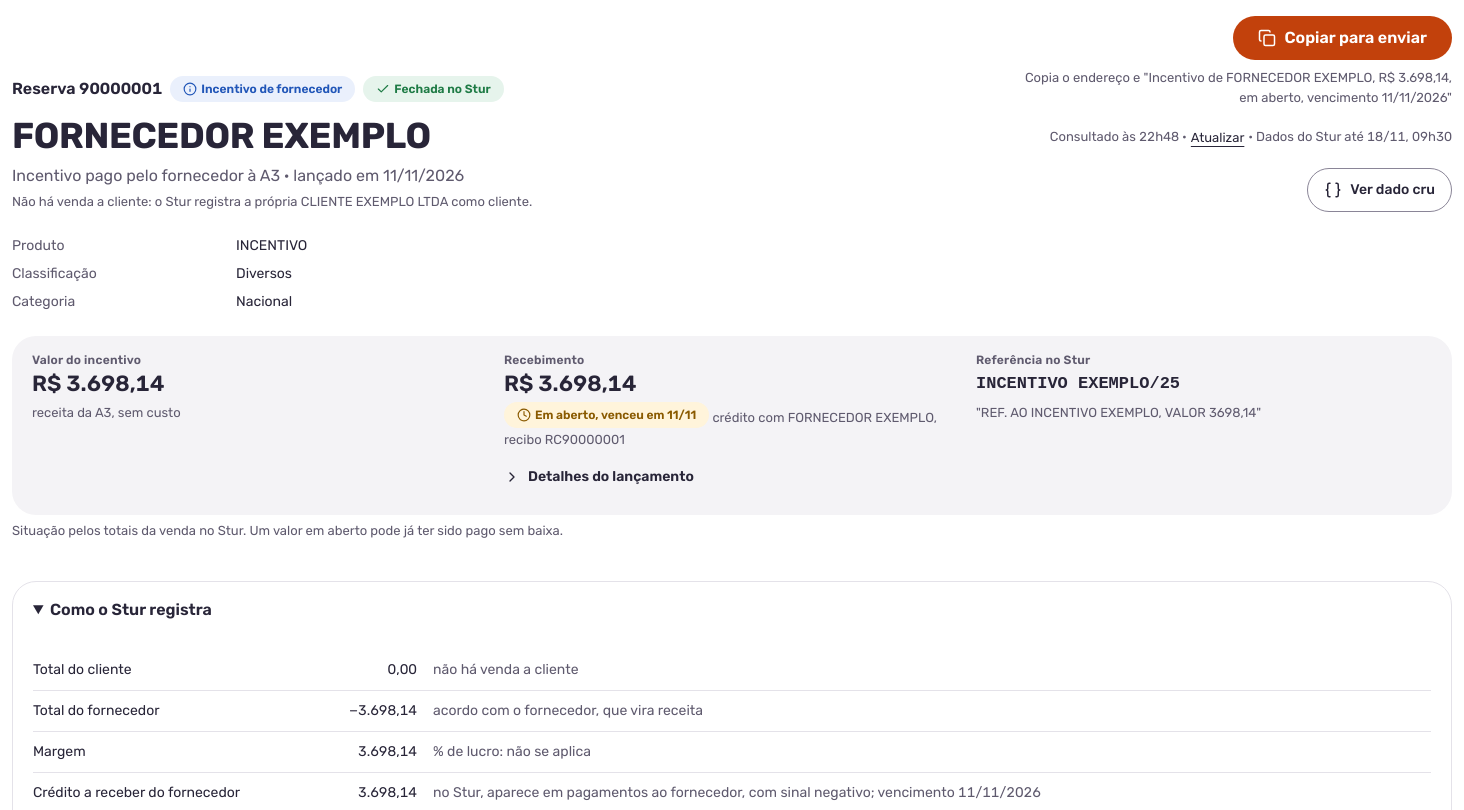
Scenario: Recebimentos e pagamentos do incentivo (decisão 8) › só o crédito: sem a tabela, e os detalhes do lançamento no cartão Recebimento
This screenshot has width=1464, height=810.
What coordinates should you click on to do the following:
click the heading "Detalhes do lançamento"
I would click on:
 (599, 476)
Its box is [504,468,694,485].
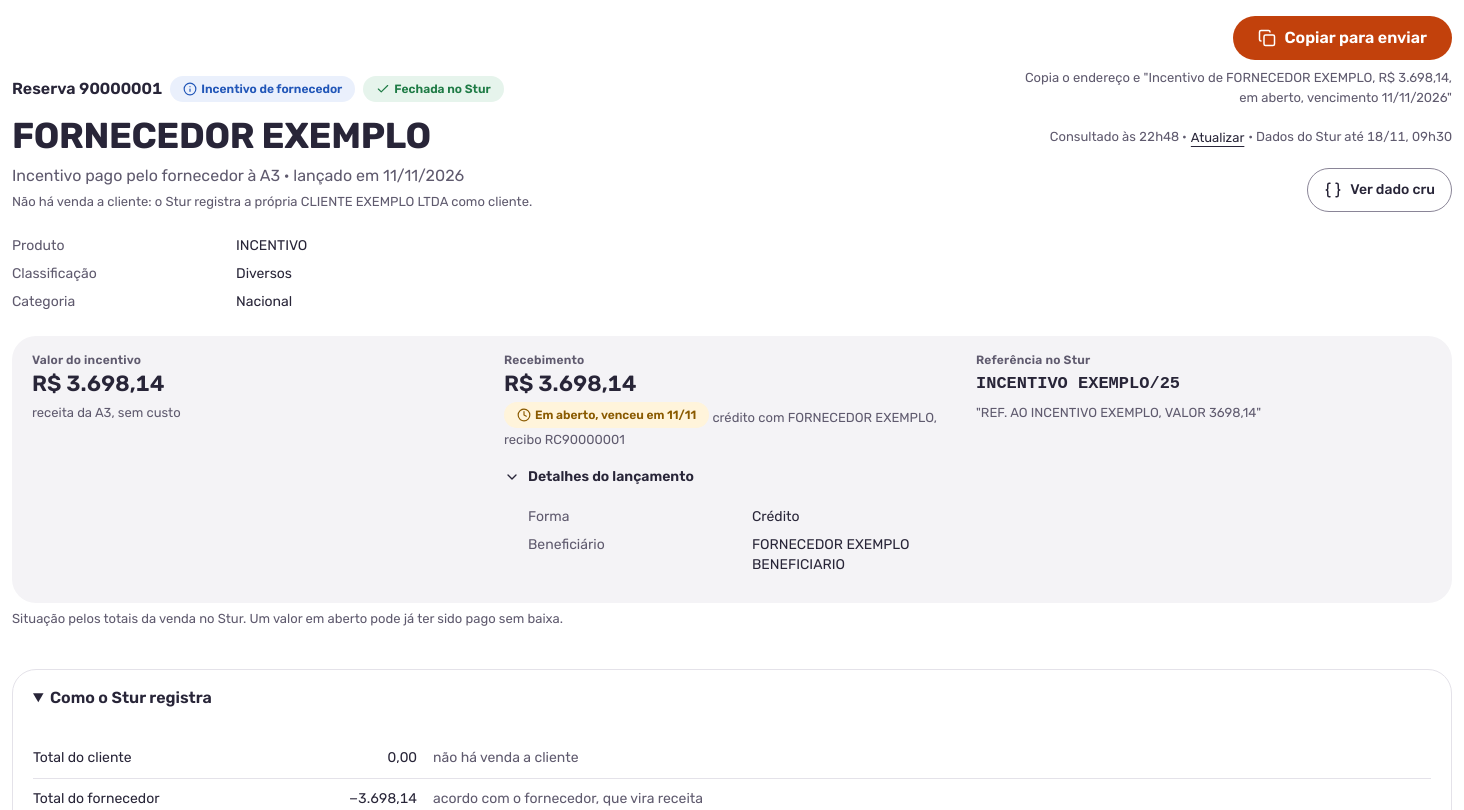
Result: the text "FORNECEDOR EXEMPLO BENEFICIARIO" is shown at [752,536,910,573]
